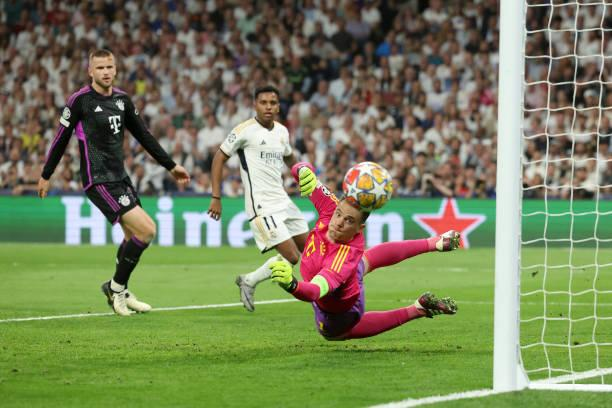Goalkeeper: (273, 163, 460, 341)
Player: (37, 49, 190, 315), (208, 85, 308, 311)
ball: (343, 161, 393, 212)
